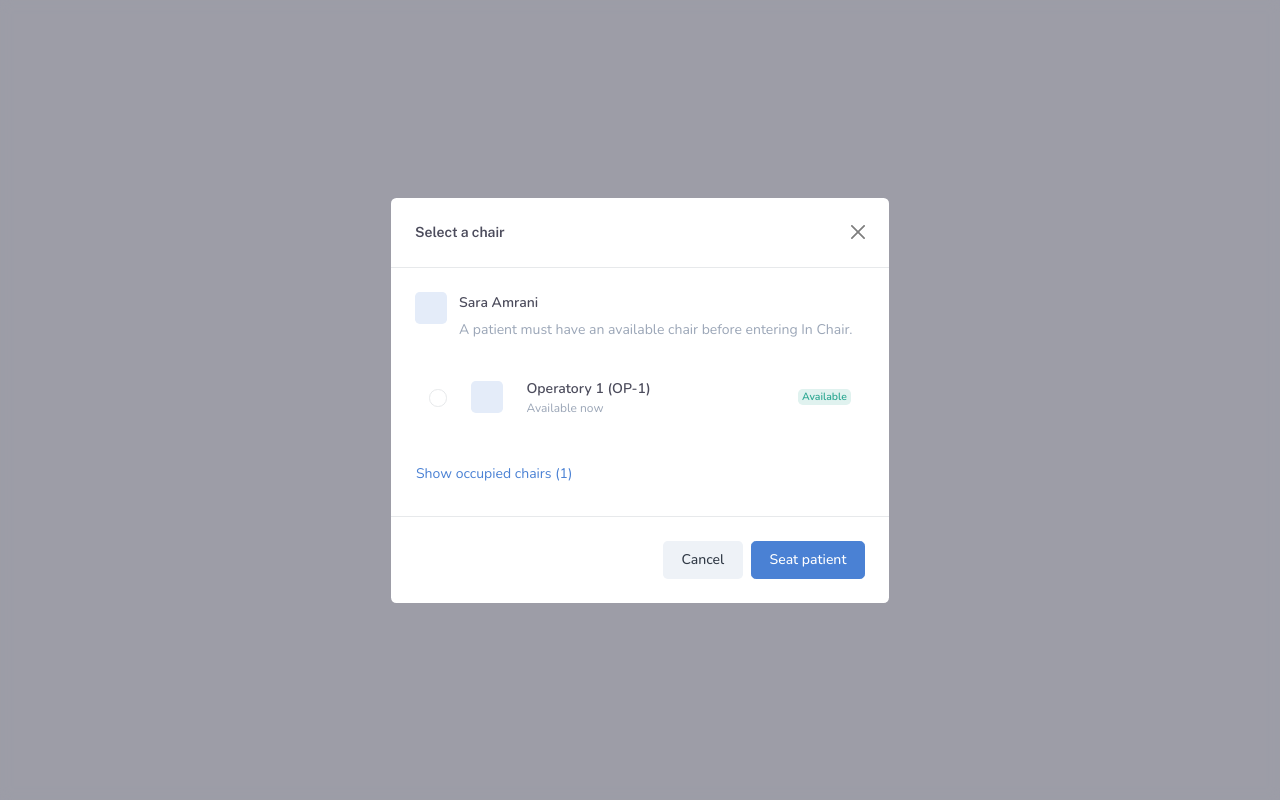
it: WaitingRoomChairAssignmentModal › shows available chairs by default and occupied chairs only on request
Click the button "Show occupied chairs (1)" at (494,473), box [415,454,573,492]
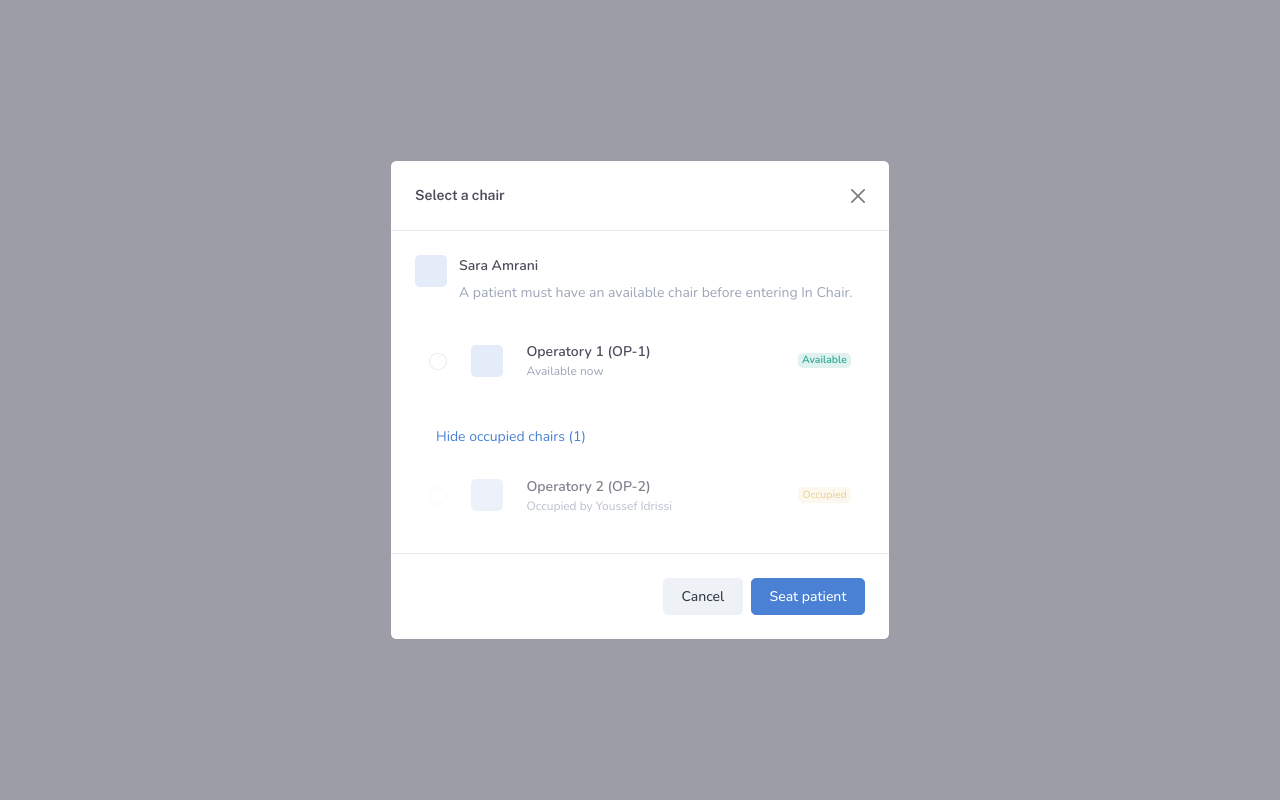
Expected: the text "Occupied by Youssef Idrissi" is shown, [526,498,672,514]
